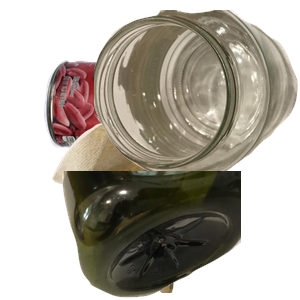glass: (94, 10, 300, 184)
metal: (41, 58, 240, 207)
plastic: (60, 171, 300, 300)
trash: (50, 120, 219, 300)
